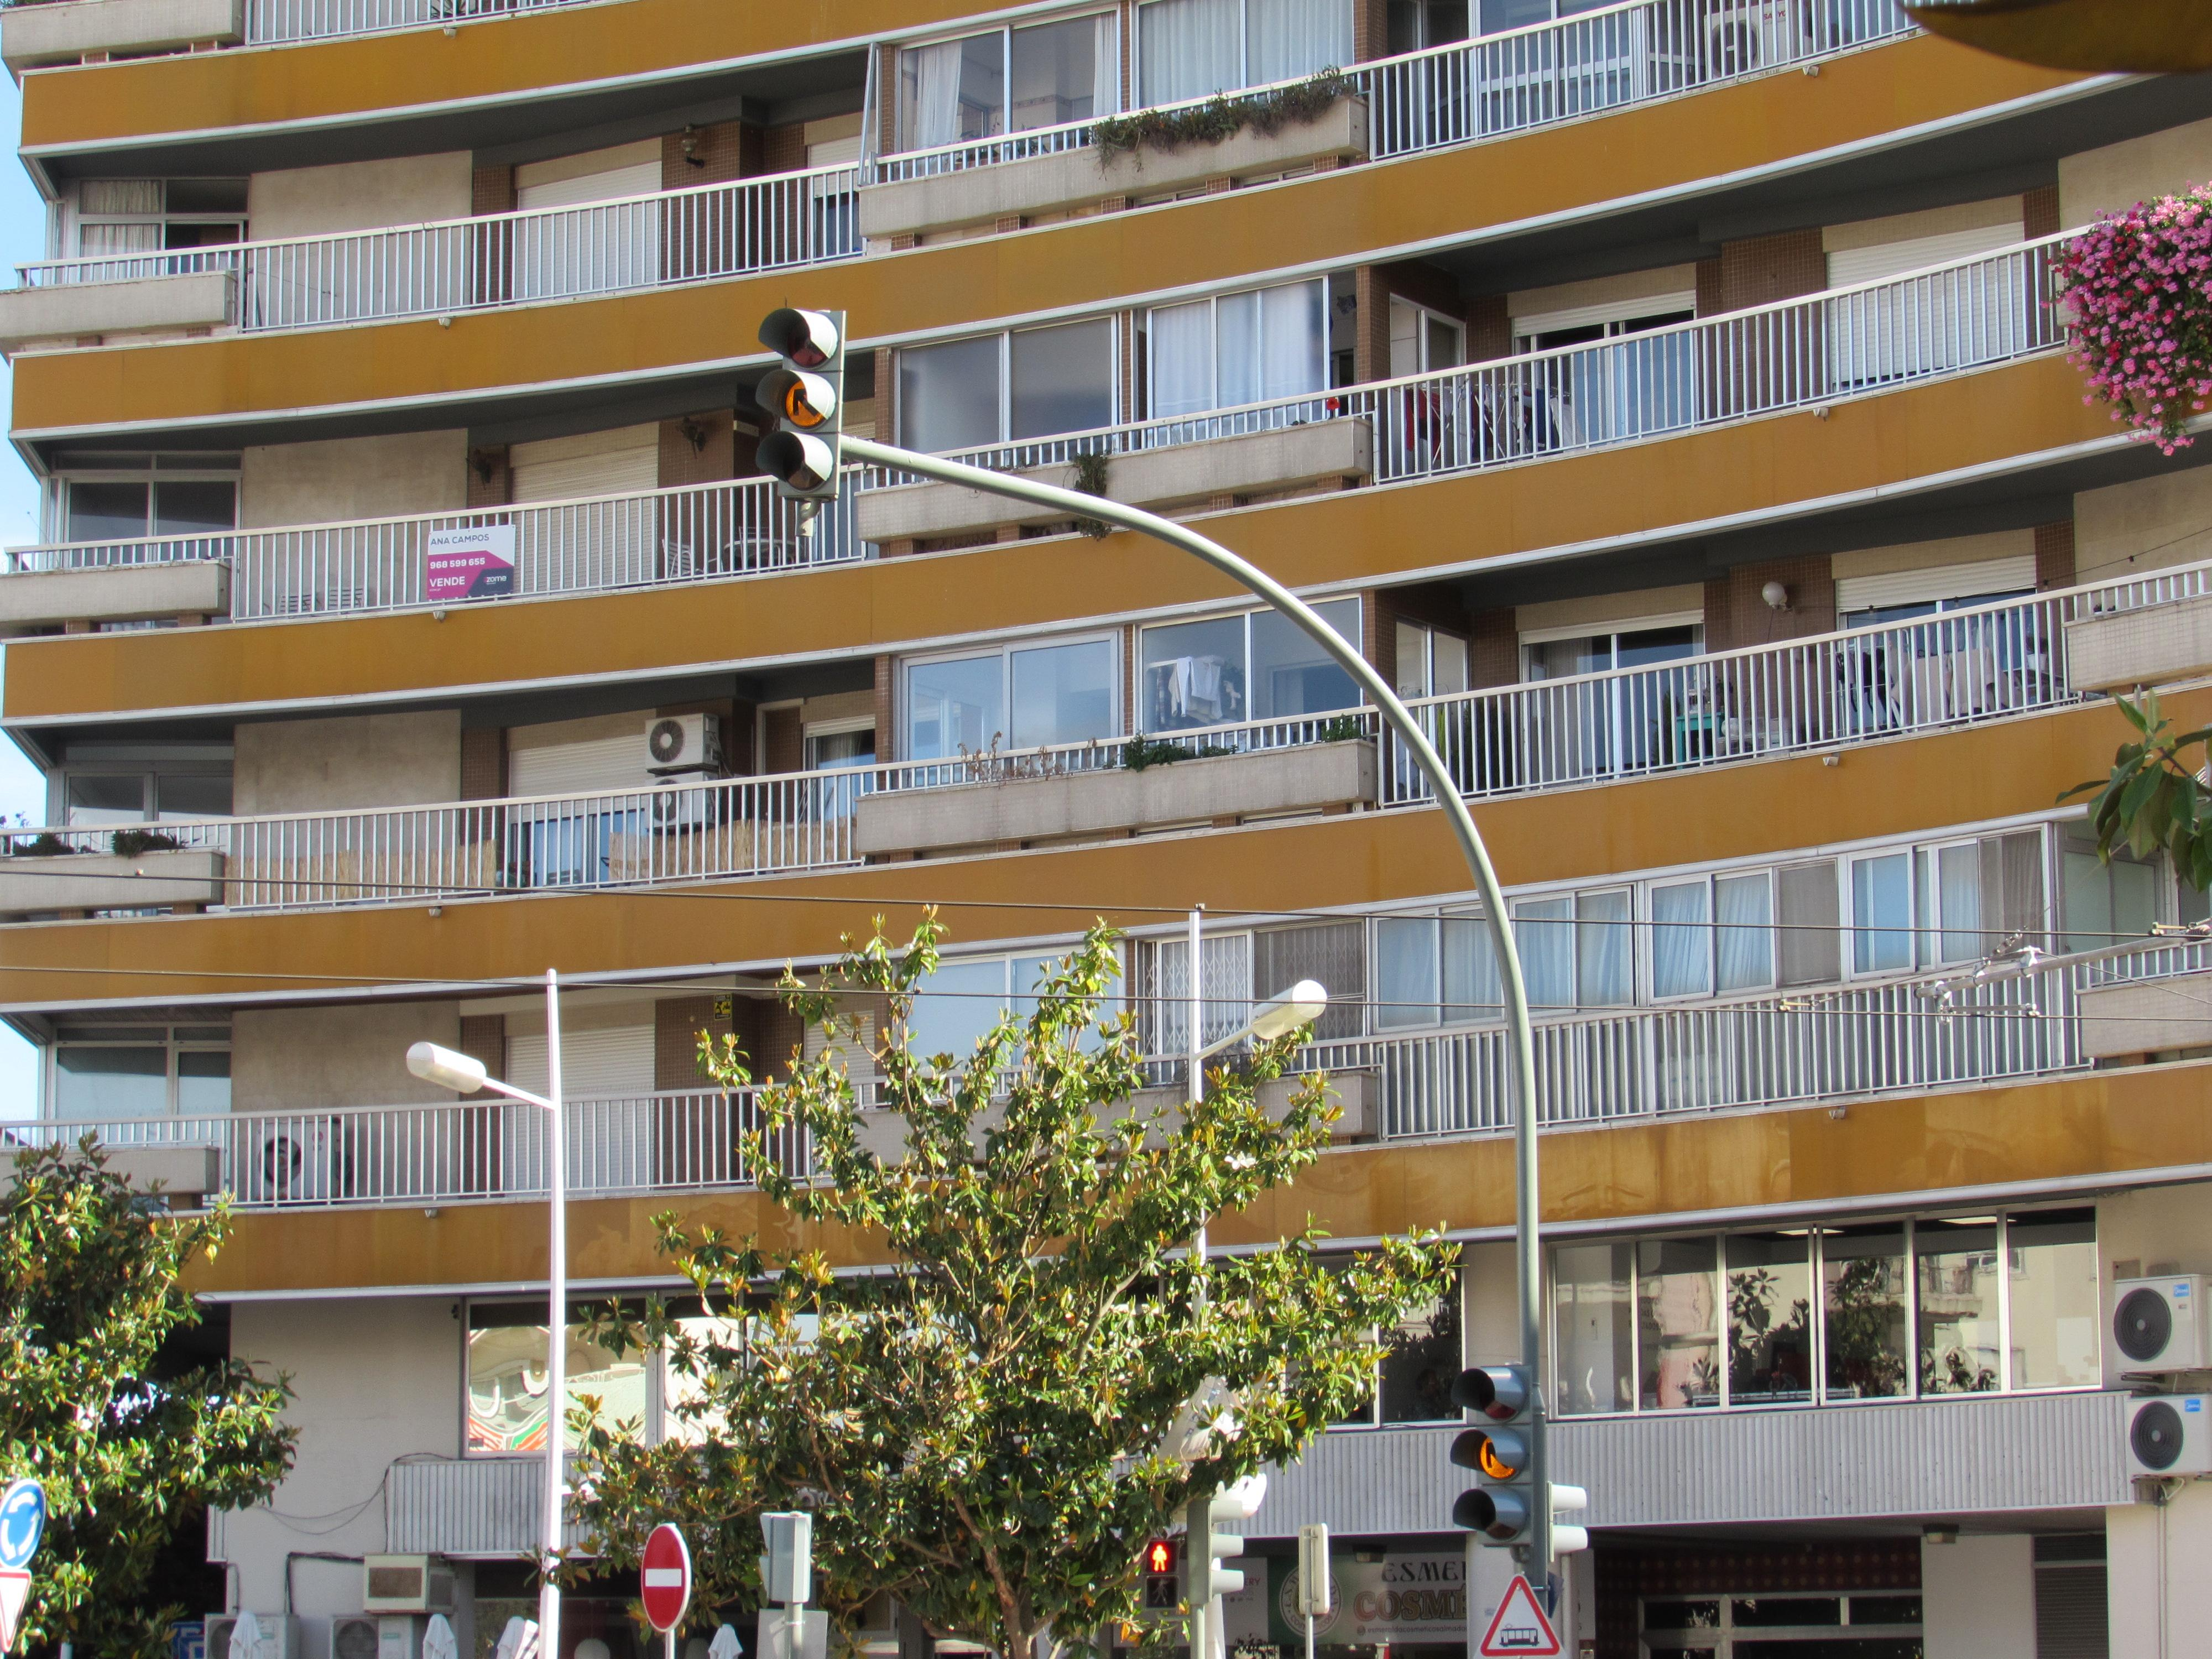yellow_light: (756, 308, 845, 497), (1451, 1364, 1536, 1544)
